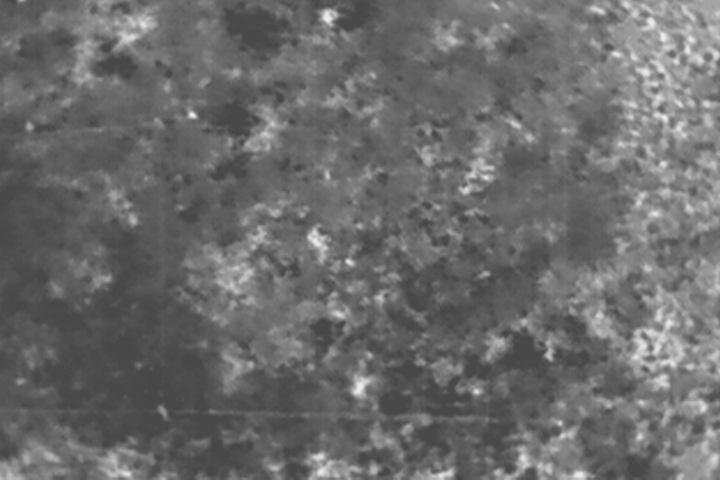landmine: (306, 224, 332, 250)
